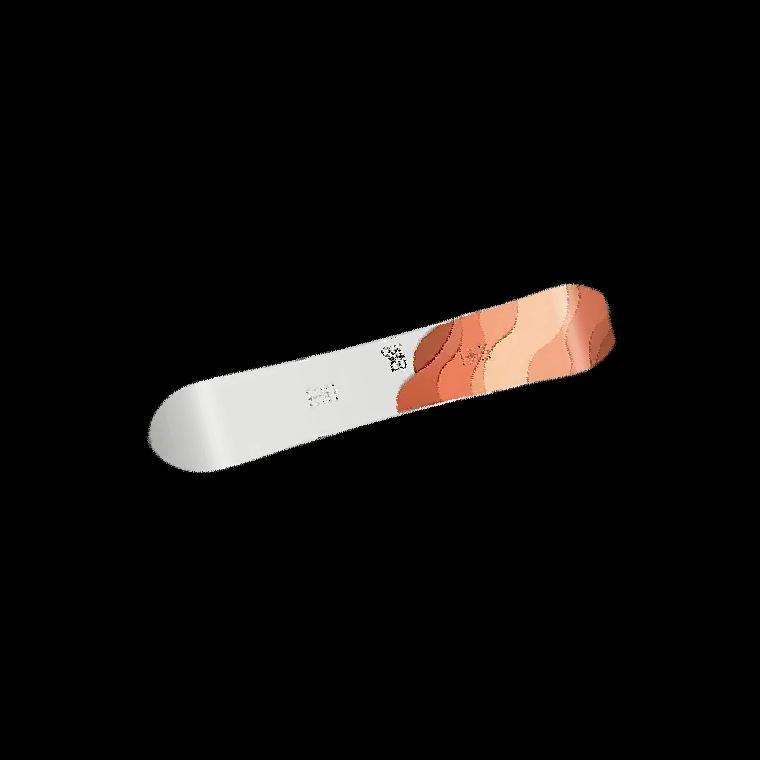Snowboard: (146, 281, 616, 474)
